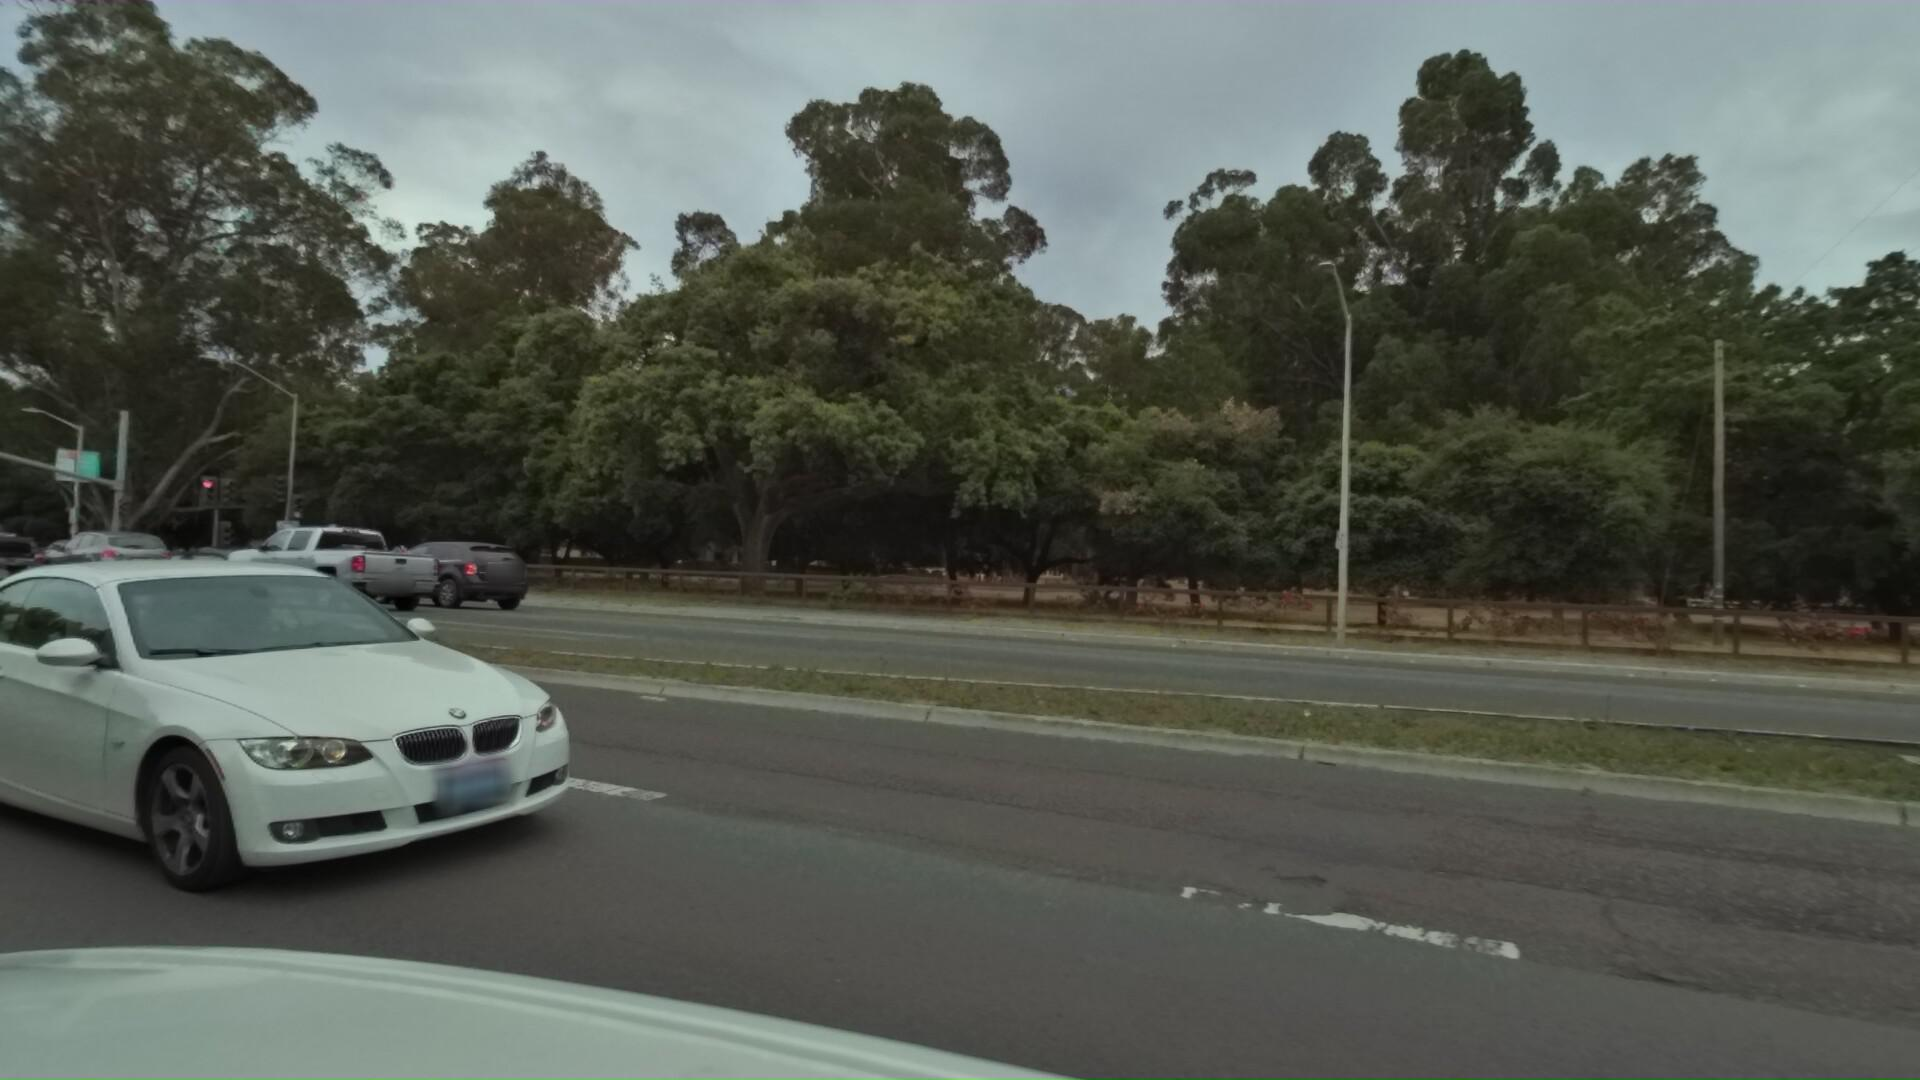car: (200, 508, 433, 615), (342, 534, 527, 612), (26, 526, 178, 593), (11, 531, 132, 585), (117, 546, 251, 593)
